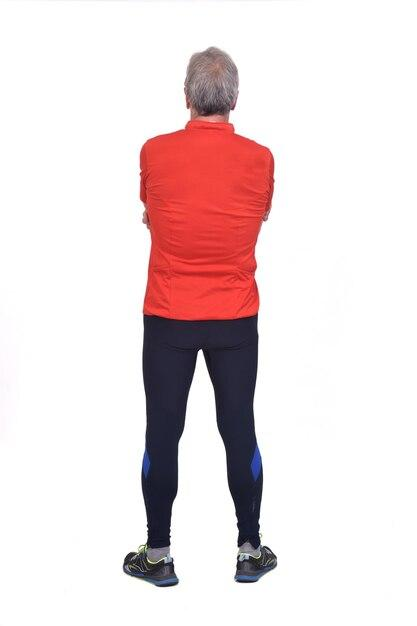Human: (111, 49, 305, 592)
